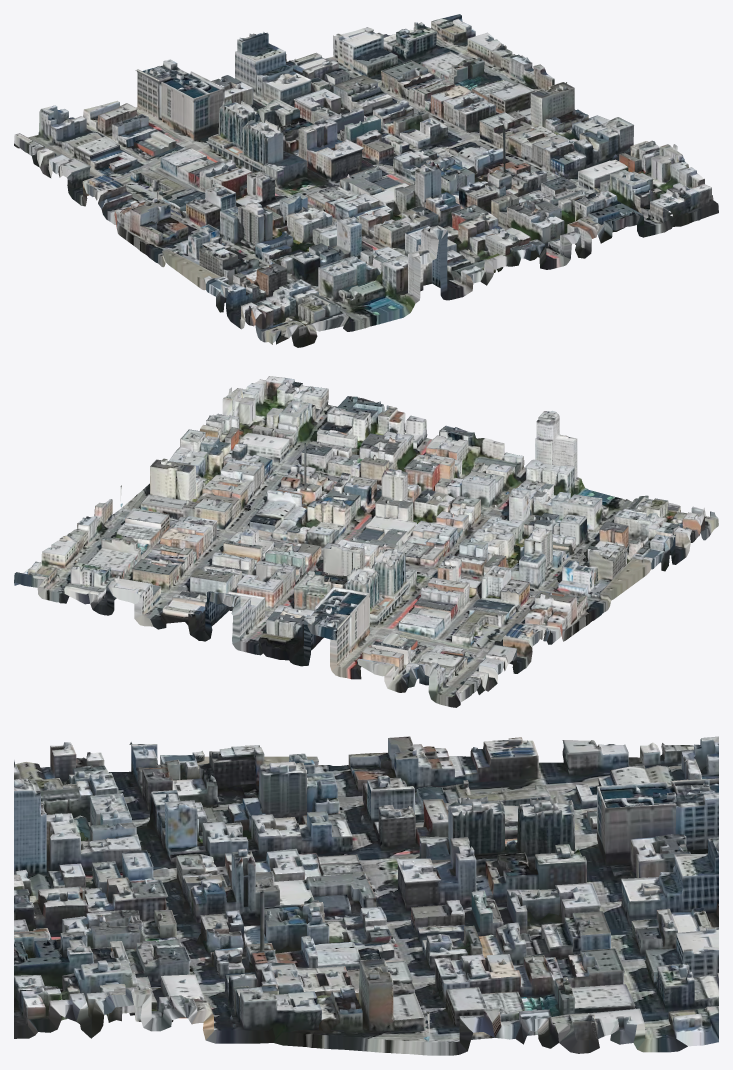
The model's file is z16-10482-25328-h0-yup-uvflip-v3-world.glb.
3 views of the same model, one above another, from view 1: azimuth 30°, elevation 25°; view 2: azimuth 150°, elevation 25°; view 3: azimuth 270°, elevation 25° (orthographic). The views are drawn at different scales.
Size of the model in its own units: 484 by 87.68 by 485.
Materials: 1 (1 with a texture image).
